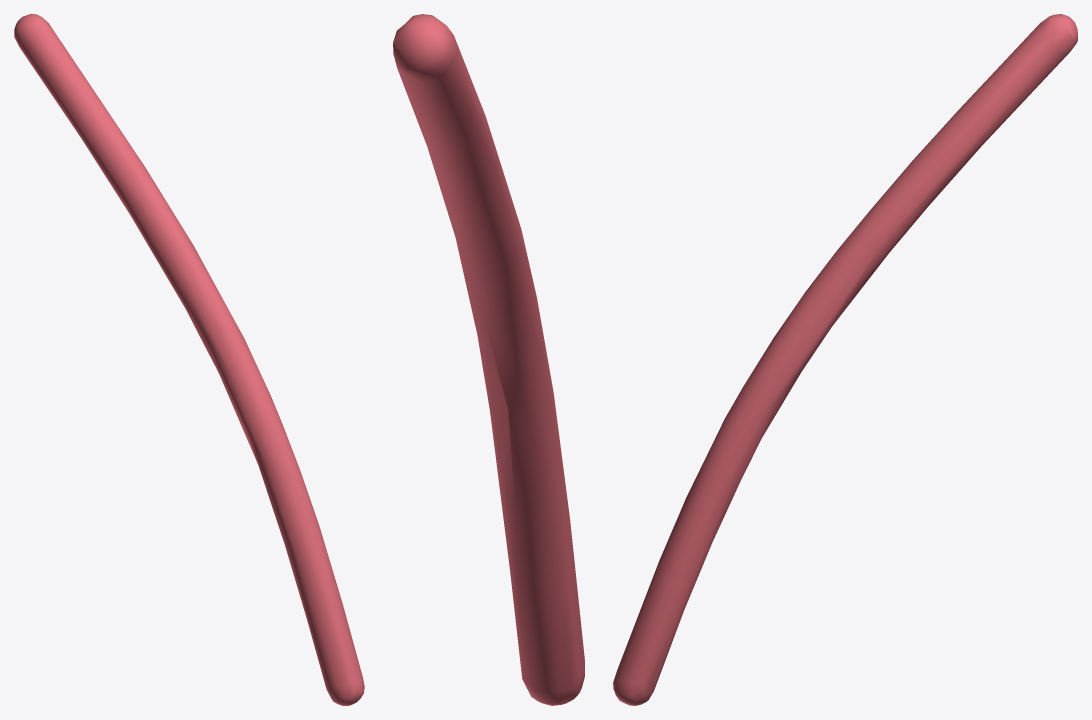
File: fma85121_fj2345.glb
3 renders of one model, left to right at view 1: azimuth 30°, elevation 25°; view 2: azimuth 150°, elevation 25°; view 3: azimuth 270°, elevation 25°, orthographic. The views are drawn at different scales.
Visible parts, largest first — view 1: FMA85121_FJ2345; view 2: FMA85121_FJ2345; view 3: FMA85121_FJ2345.
Part boxes in pixels (x1,y1,x2,y2): FMA85121_FJ2345: [14, 14, 364, 705]; FMA85121_FJ2345: [393, 14, 584, 705]; FMA85121_FJ2345: [613, 14, 1077, 705].
Bounding box in the file's own units: 0.00666 × 0.0243 × 0.0163.
